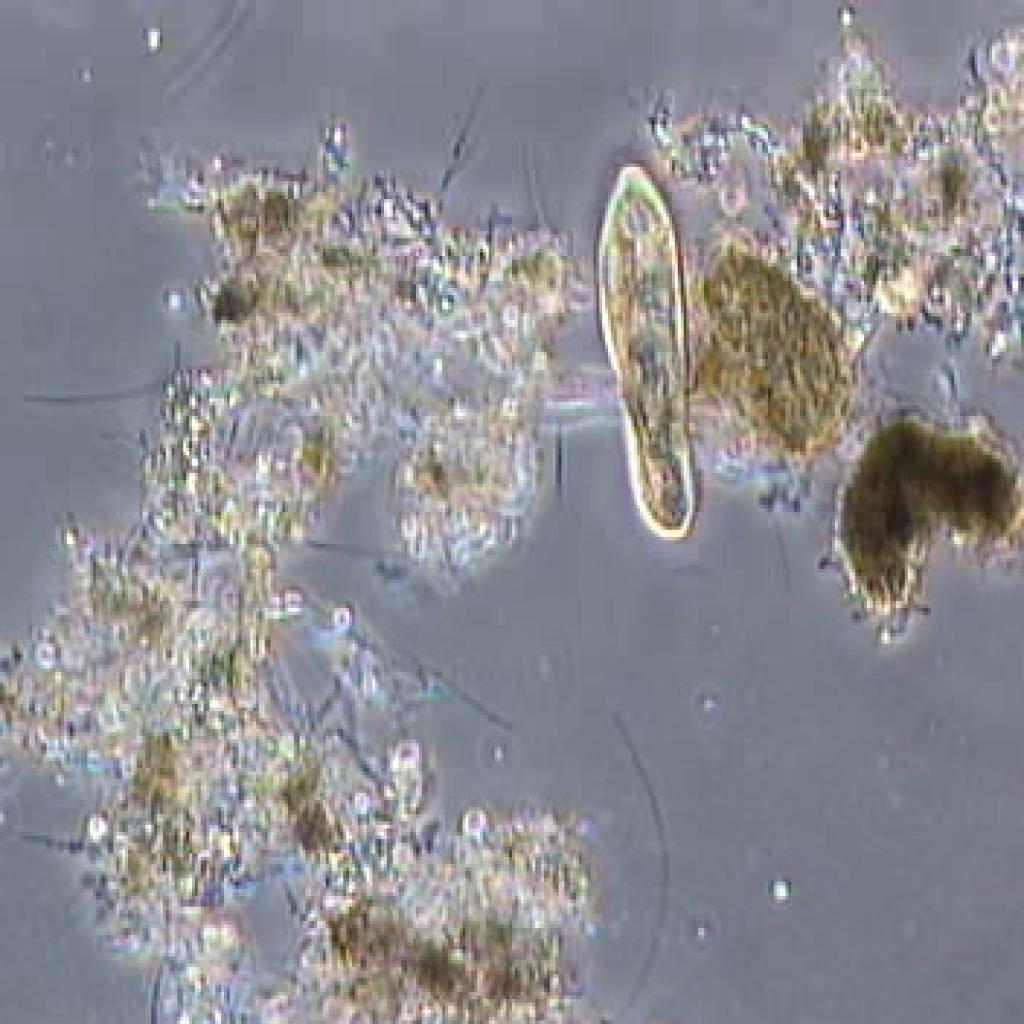Paramecium: (582, 144, 736, 574)
